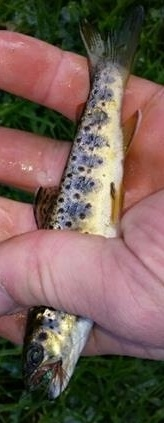Salmo trutta subsp. fario: (20, 1, 144, 403)
